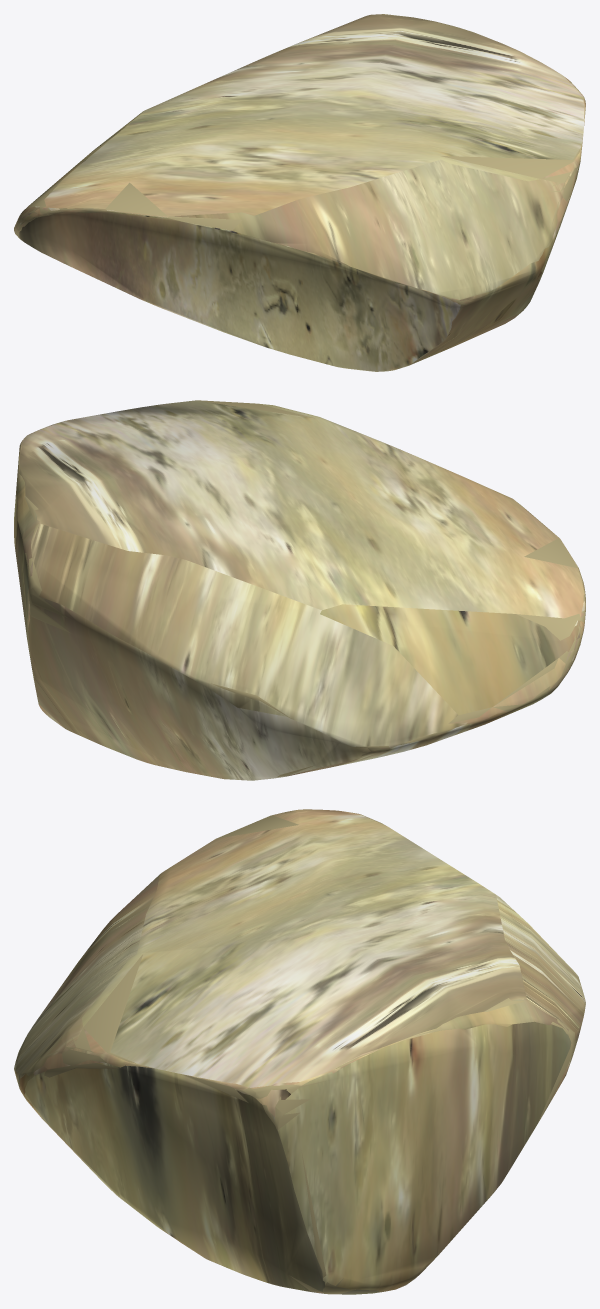
File: adrastea2.glb
The picture shows the model from 3 angles, top to bottom: view 1: azimuth 30°, elevation 25°; view 2: azimuth 150°, elevation 25°; view 3: azimuth 270°, elevation 25°; orthographic projection. The views are drawn at different scales.
Visible parts, largest first — view 1: Adrastea; view 2: Adrastea; view 3: Adrastea.
Part boxes in pixels (bbox=[...]): Adrastea: bbox=[14, 14, 585, 371]; Adrastea: bbox=[14, 400, 585, 780]; Adrastea: bbox=[14, 809, 585, 1294].
Size of the model in its own units: 16000 by 7198 by 12610.
1 material, 1 textured.
